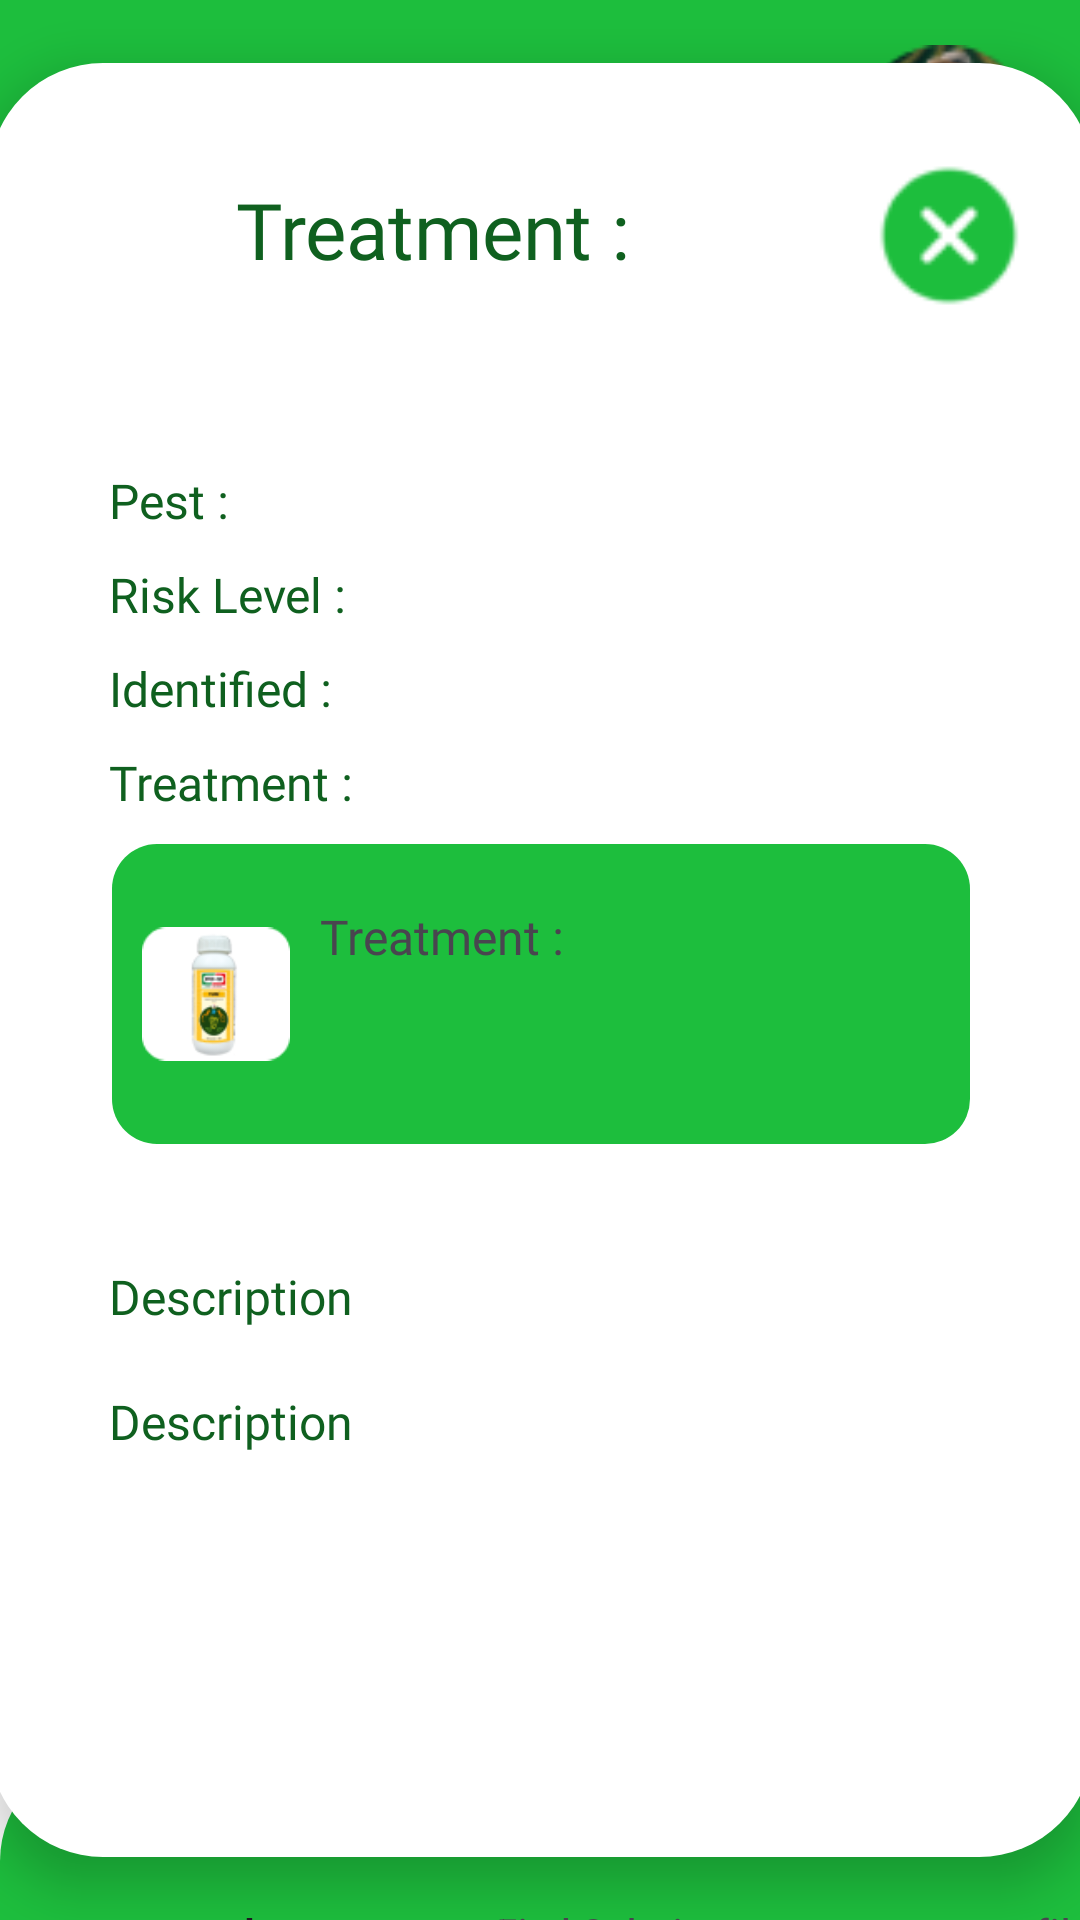

Named icons in this screenshot (1080*1920) and their bounding boxes, (x1, y1, x2, y2):
macos close: (880, 167, 1018, 304)
